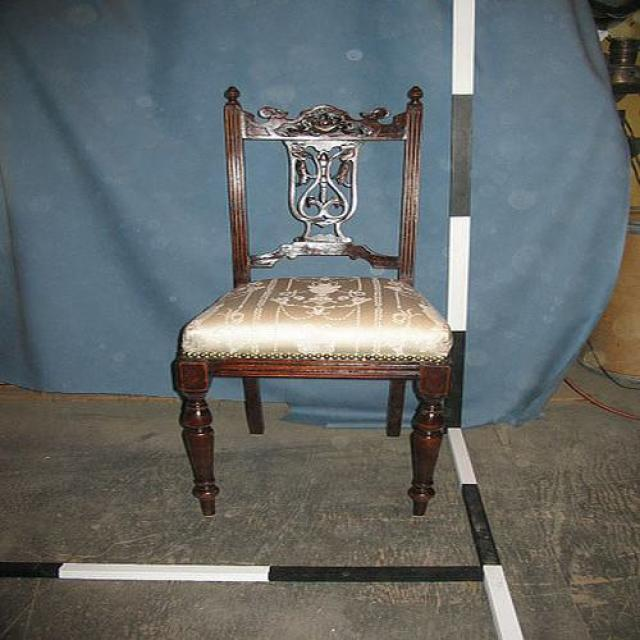chair: (172, 87, 466, 517)
